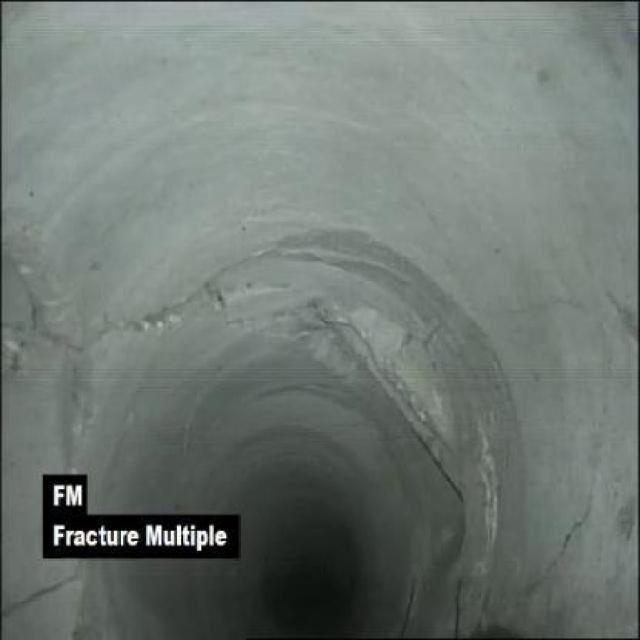Crack: (512, 434, 603, 608), (83, 272, 219, 350), (5, 296, 72, 370), (5, 571, 77, 614), (502, 291, 608, 320)
